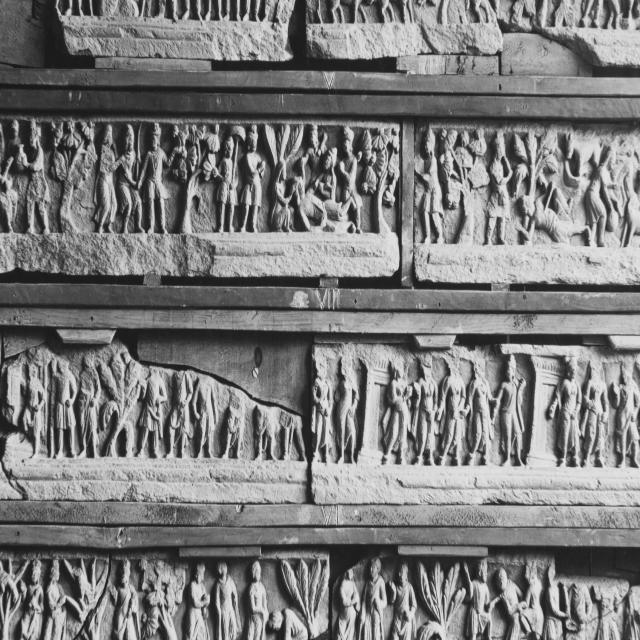buddha-sleeping: (290, 176, 355, 231), (518, 196, 590, 242)
buddha-standing: (492, 356, 526, 466), (463, 560, 498, 640), (248, 560, 268, 639)
